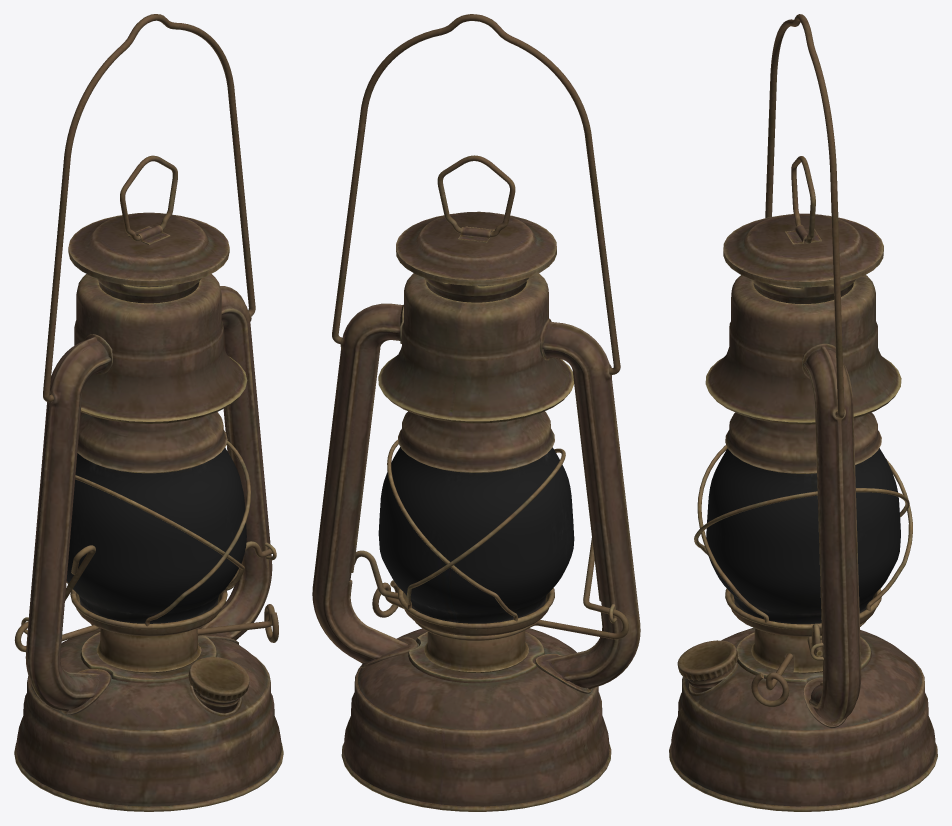
The model's file is SM_PH_Lantern_01.fbx.
3 views of the same model, side by side, from view 1: azimuth 30°, elevation 25°; view 2: azimuth 150°, elevation 25°; view 3: azimuth 270°, elevation 25° (orthographic).
Visible parts, largest first — view 1: SM_PH_Lantern_01; view 2: SM_PH_Lantern_01; view 3: SM_PH_Lantern_01.
Part boxes in pixels (x1,y1,x2,y2): SM_PH_Lantern_01: (14,14,283,811); SM_PH_Lantern_01: (312,14,640,811); SM_PH_Lantern_01: (669,14,937,811).
Bounding box in the file's own units: 0.1185 × 0.097 × 0.2942.
2 materials, 2 textured.
